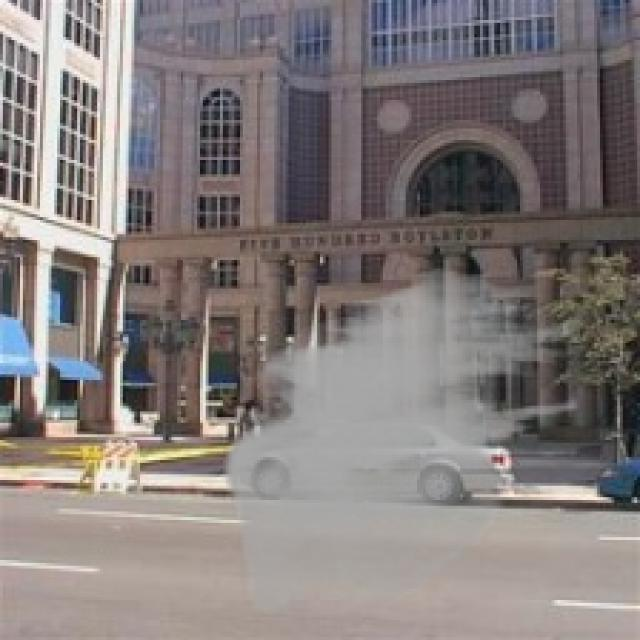Smoke: (223, 262, 580, 618)
